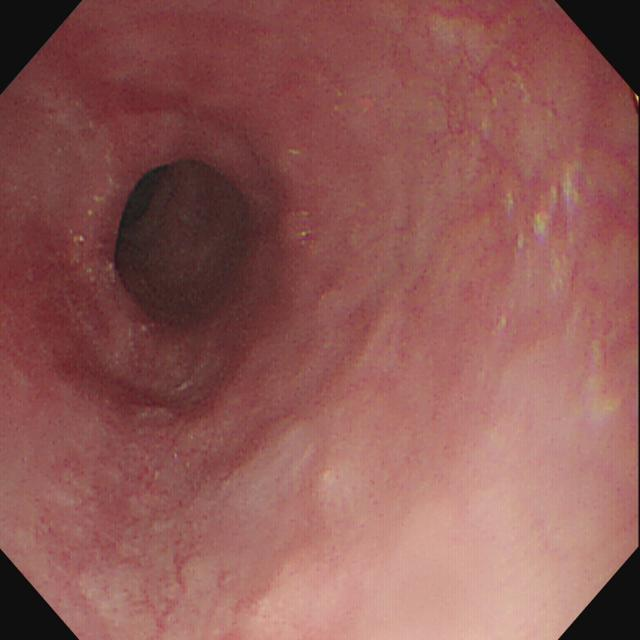E: (104, 158, 262, 317)
J: (98, 325, 149, 381), (175, 355, 225, 394), (84, 260, 118, 285)
